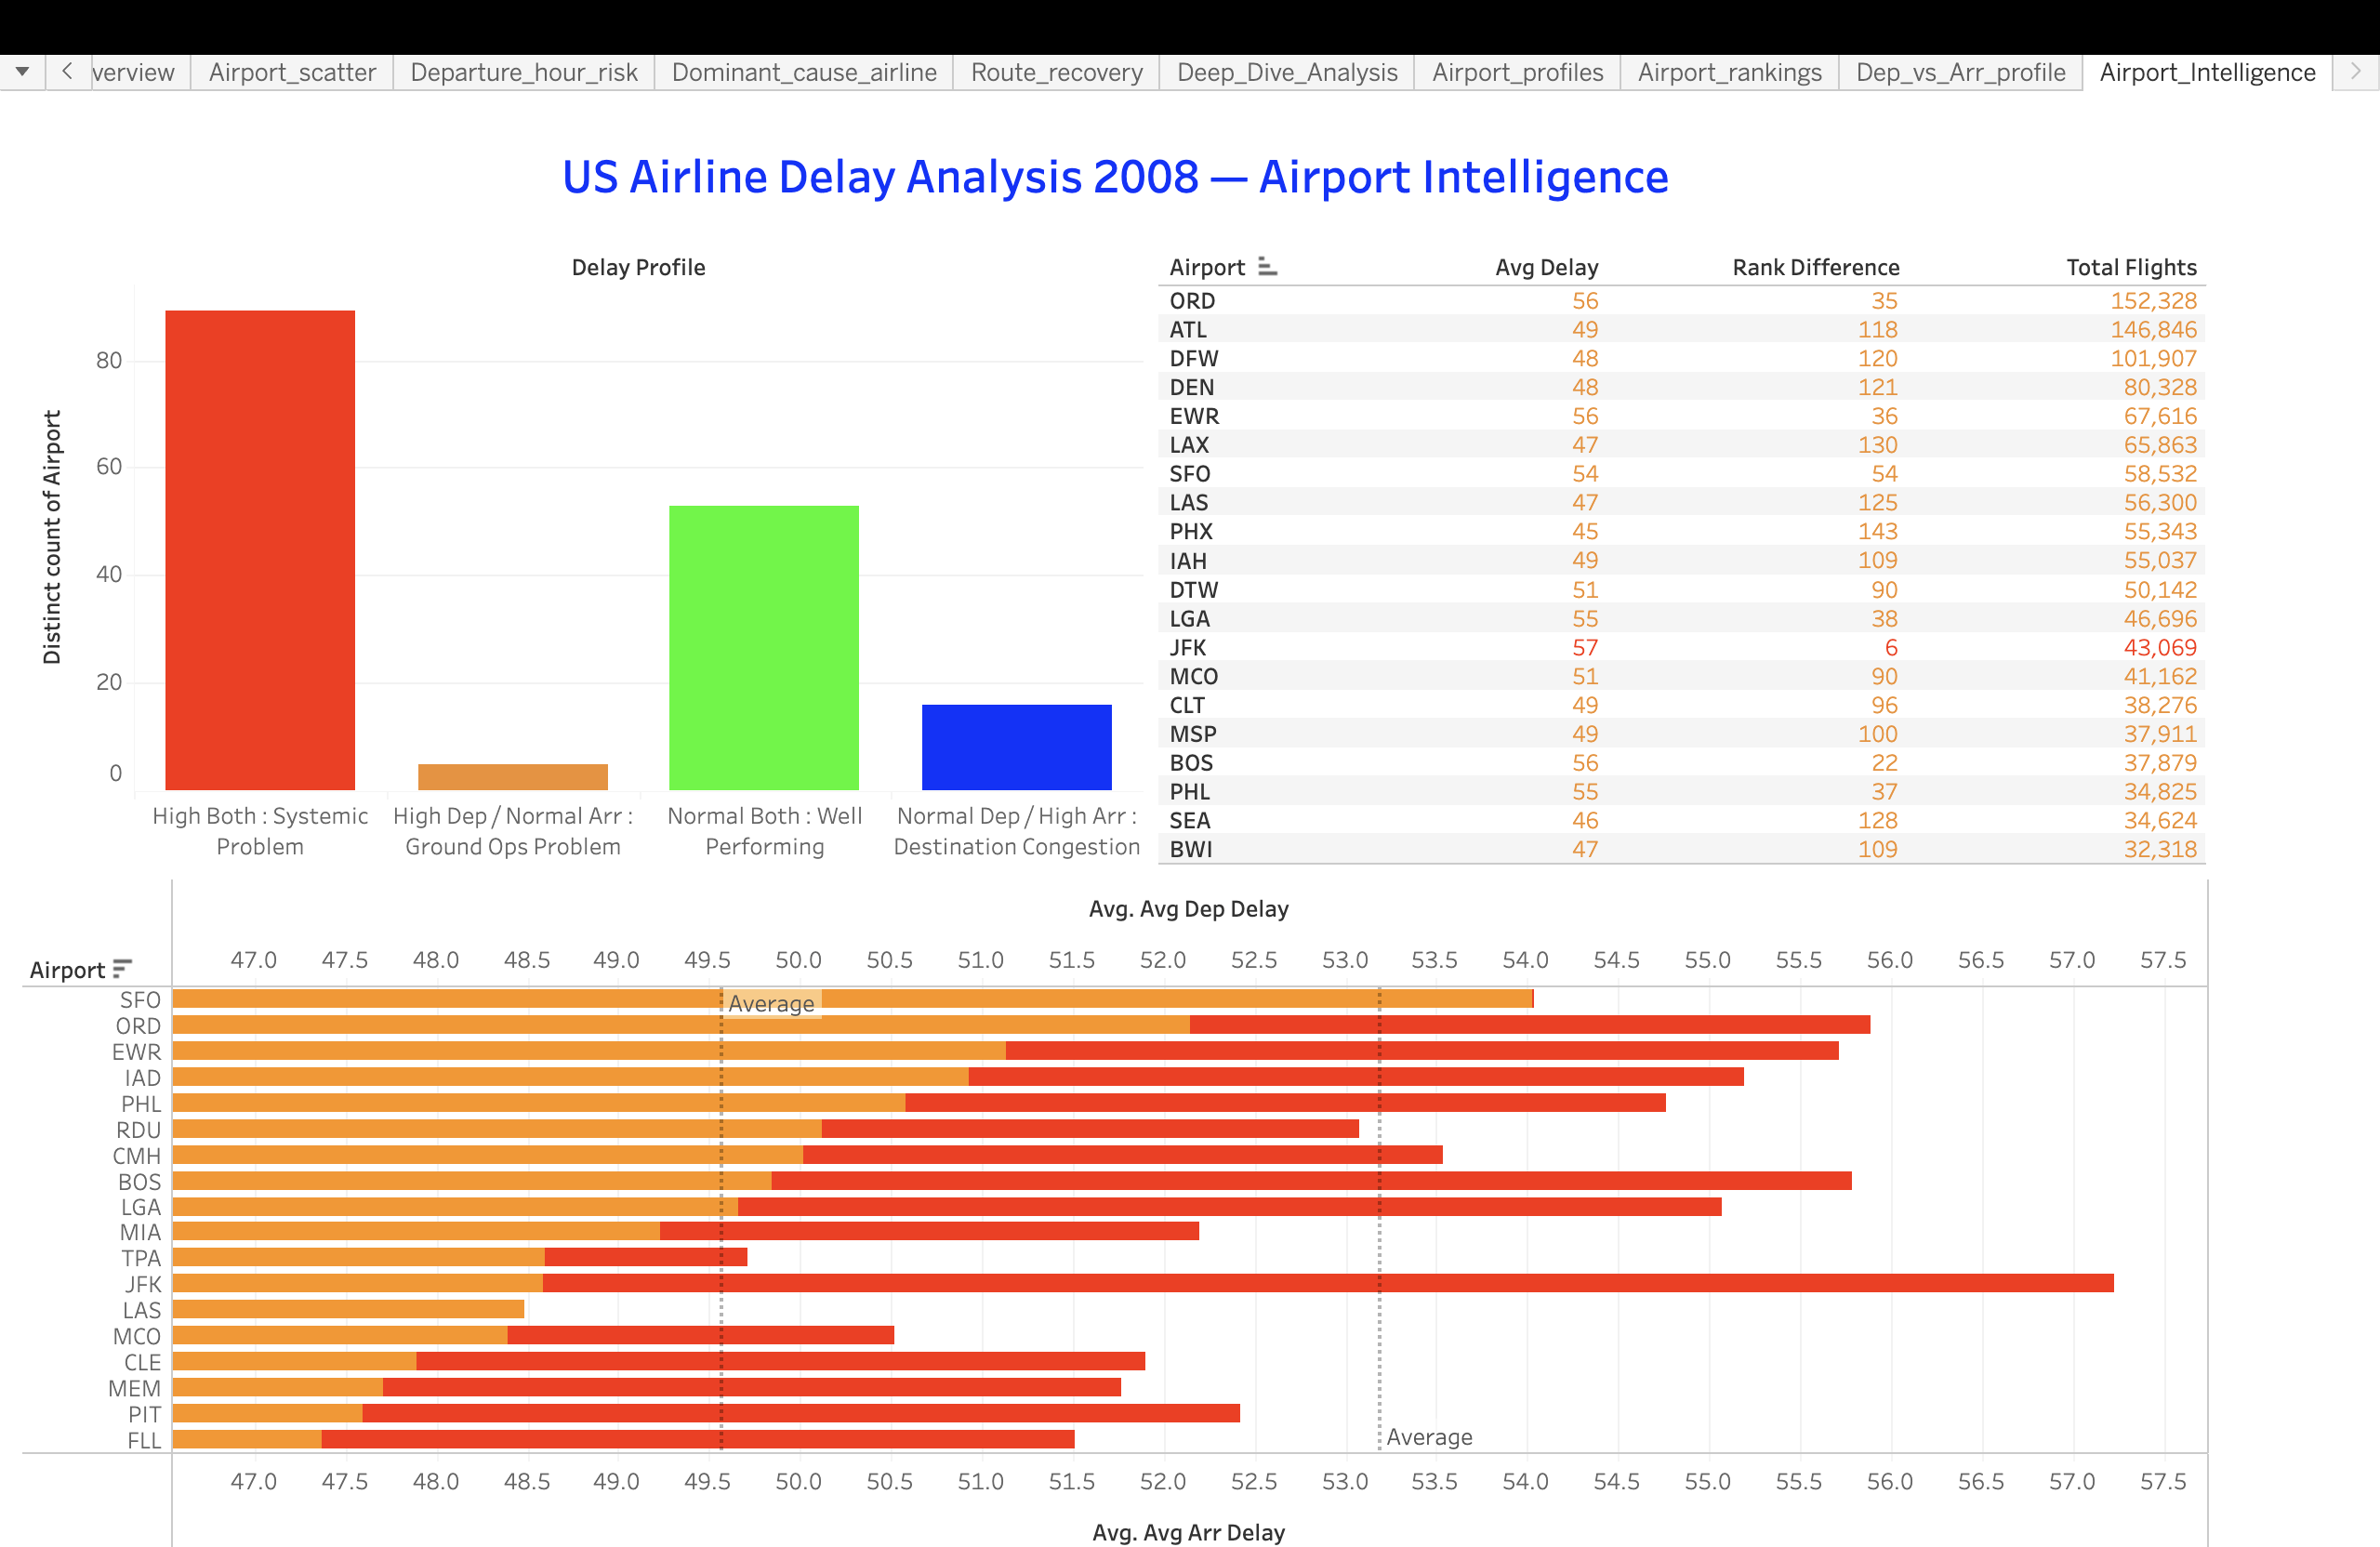

Layout of this report page (visuals, bound fields, positions):
{"tool":"tableau","page":{"name":"Airport_Intelligence","canvas":[1200,800],"ordinal":0},"visuals":[{"type":"text","box":[8,8,1184,70]},{"type":"worksheet","title":"Airport_profiles","mark":"Bar","rows":["Airport"],"cols":["Delay_Profile"],"box":[8,78,611,340]},{"type":"worksheet","title":"Airport_rankings","mark":"Text","rows":["airport"],"box":[619,78,573,340]},{"type":"worksheet","title":"Dep_vs_Arr_profile","mark":"Bar","rows":["Airport"],"cols":["Avg_Arr_Delay","Avg_Dep_Delay"],"box":[8,418,1184,374]}]}

Visuals, with their boxes on the page's 1200x800 design canvas (x1, y1, x2, y2). These are canvas units, not pixel positions in the 2380x1547 screenshot, which may show the page scaled, cropped or inside an application window:
text: [x1=8, y1=8, x2=1192, y2=78]
"Airport_profiles" worksheet (Bar marks): [x1=8, y1=78, x2=619, y2=418]
"Airport_rankings" worksheet (Text marks): [x1=619, y1=78, x2=1192, y2=418]
"Dep_vs_Arr_profile" worksheet (Bar marks): [x1=8, y1=418, x2=1192, y2=792]
